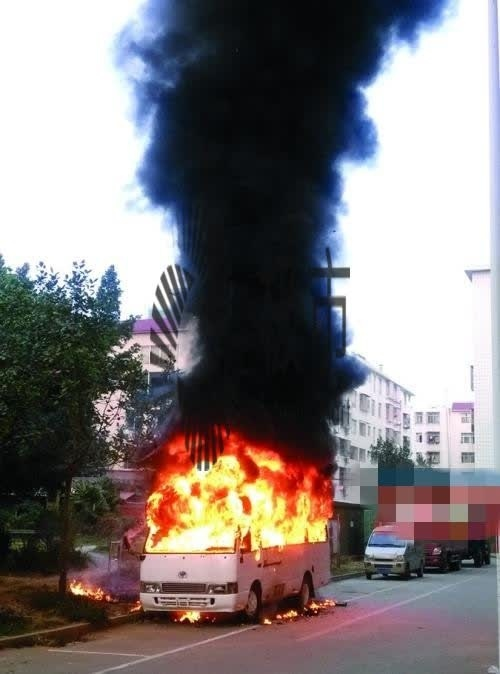fire: (142, 431, 336, 557), (261, 594, 335, 623), (67, 578, 118, 603), (172, 604, 212, 626)
